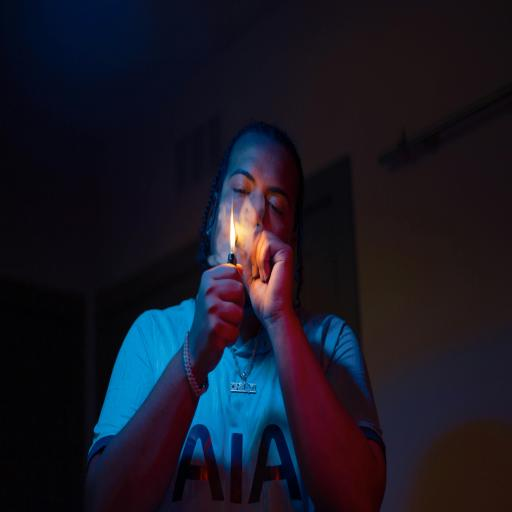lighter: (203, 177, 262, 305)
